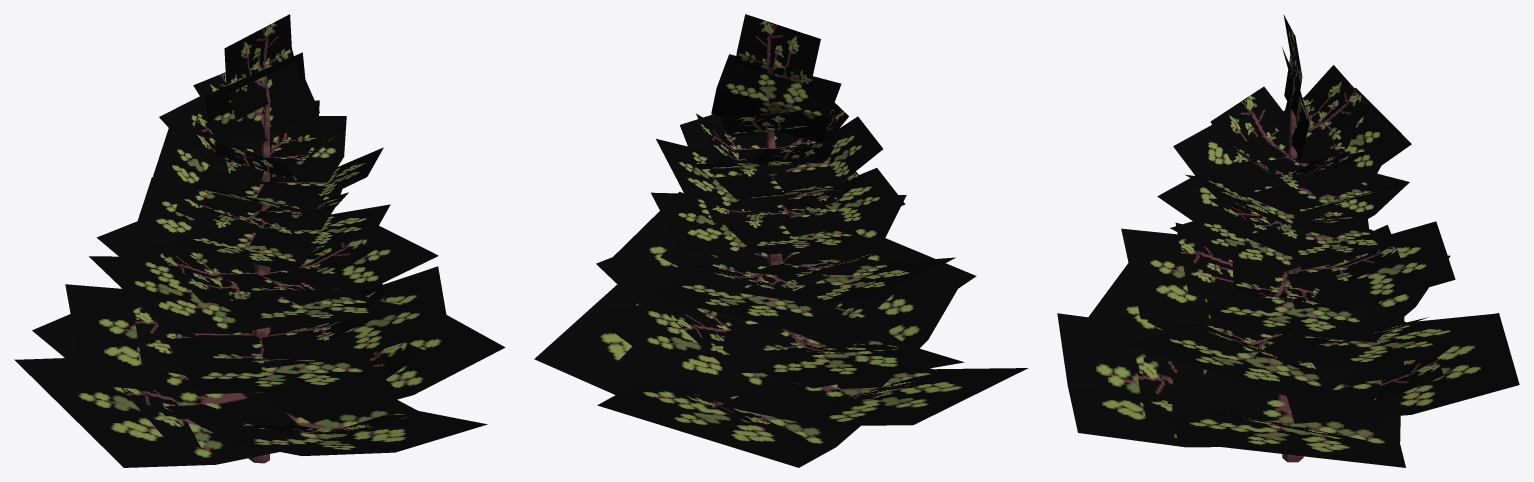
The model's file is small_tree_02.fbx.
3 views of the same model, side by side, from view 1: azimuth 30°, elevation 25°; view 2: azimuth 150°, elevation 25°; view 3: azimuth 270°, elevation 25° (orthographic). The views are drawn at different scales.
Parts seen in each view (by area): view 1: small_tree_02; view 2: small_tree_02; view 3: small_tree_02.
Part boxes in pixels (x1,y1,x2,y2): small_tree_02: (14,14,505,467); small_tree_02: (534,14,1028,467); small_tree_02: (1057,15,1519,467).
Size of the model in its own units: 1571 by 1686 by 1614.
Materials: 1 (1 with a texture image).
